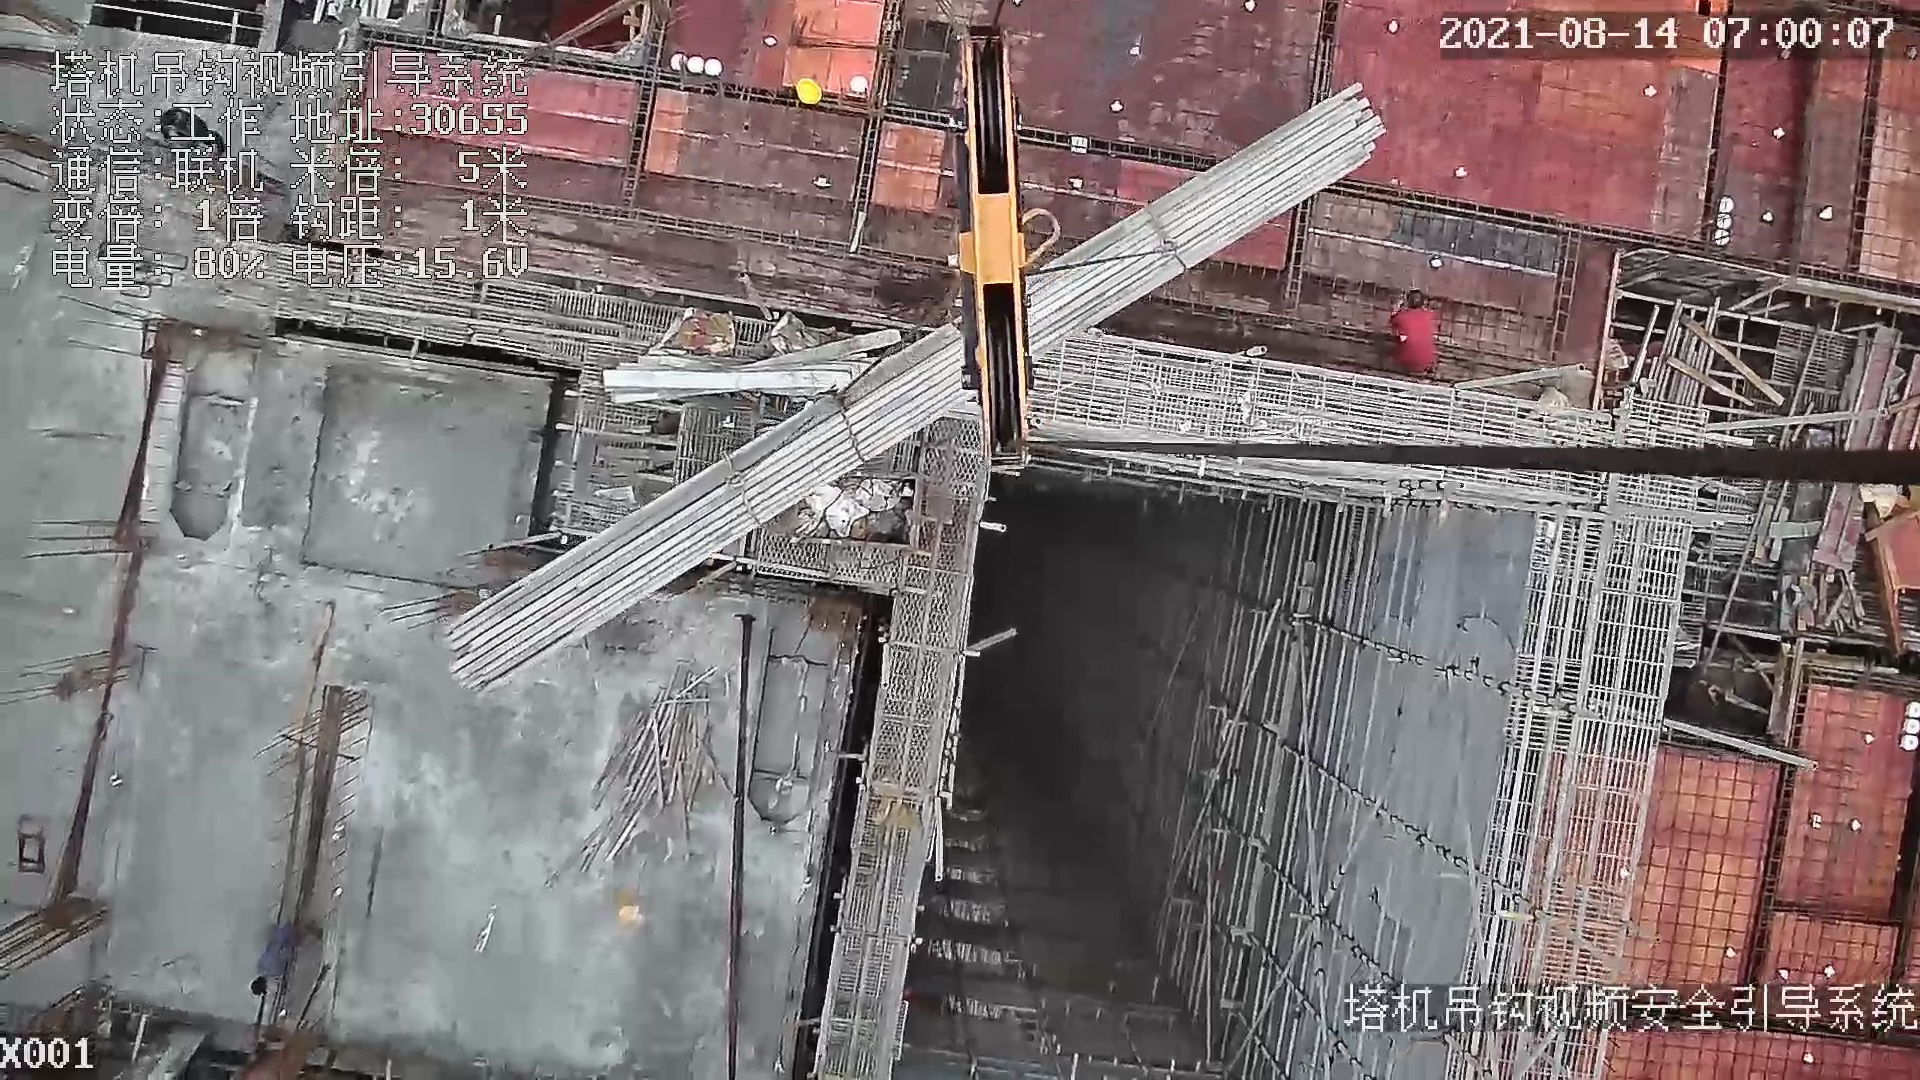helmet: (796, 78, 822, 105)
hook: (937, 18, 1067, 474)
person: (1386, 286, 1445, 382), (249, 922, 324, 995)
rebar: (442, 89, 1389, 689)
